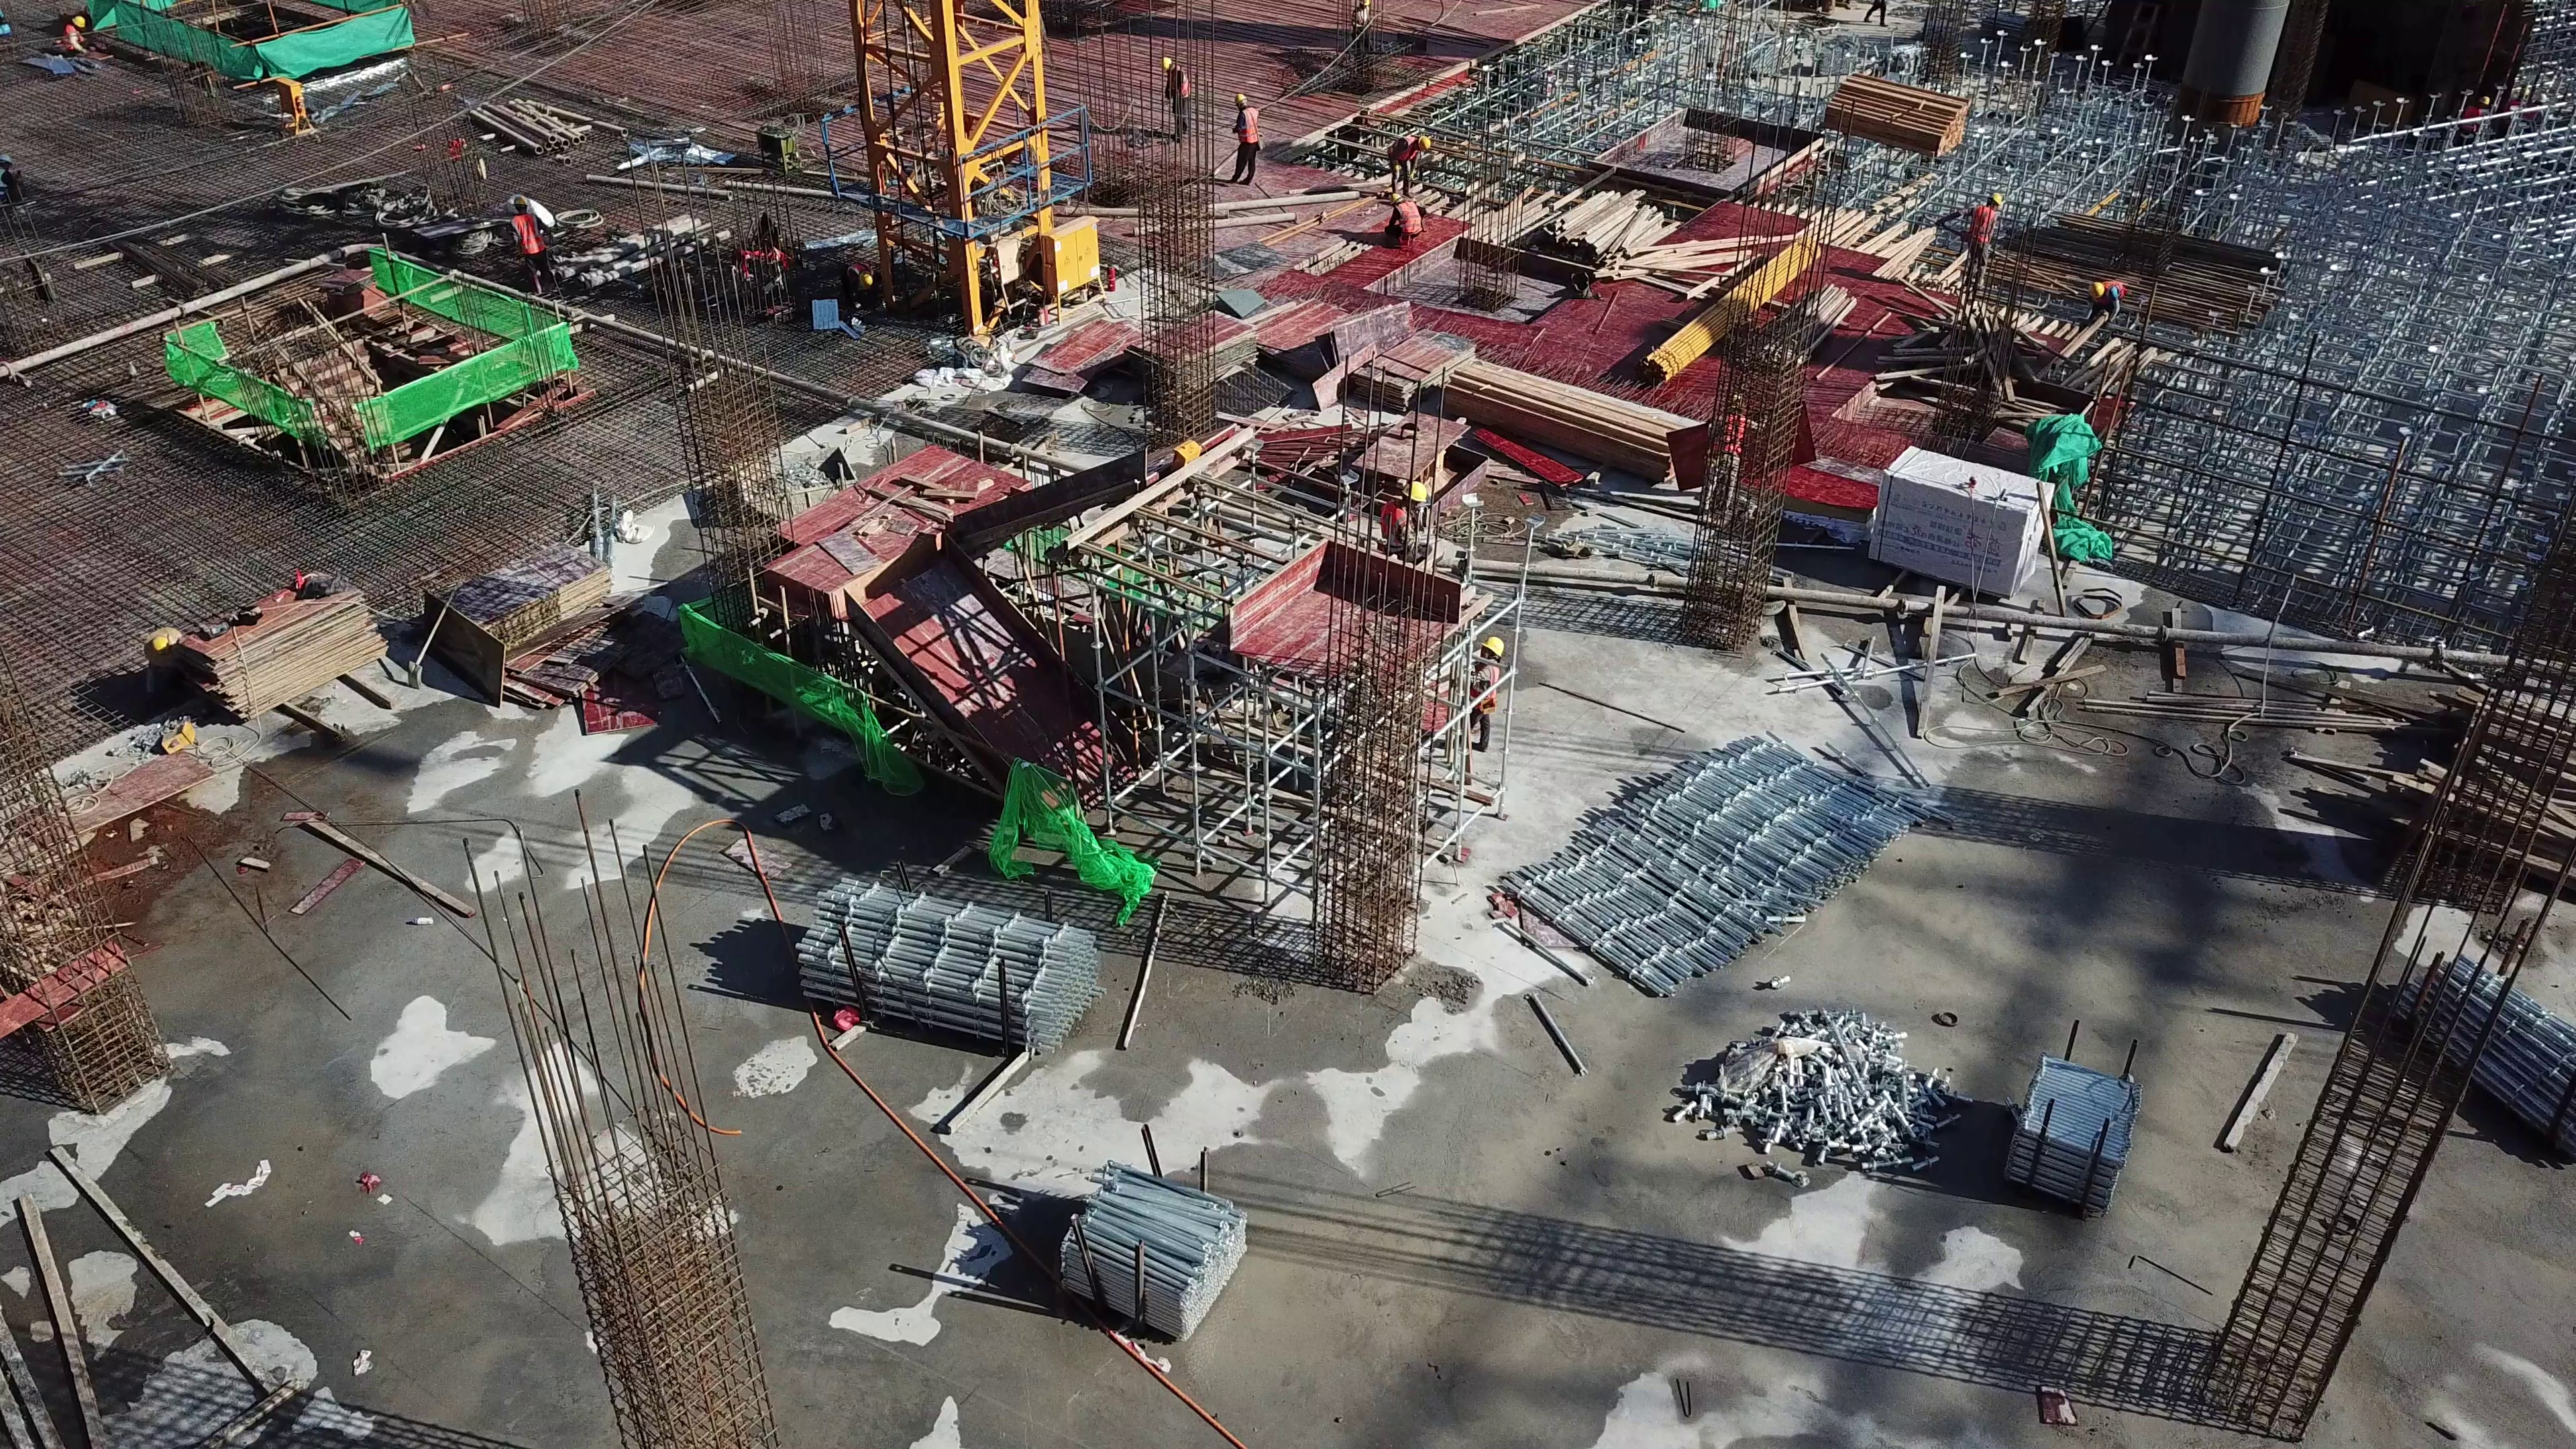board: (175, 567, 388, 739), (437, 532, 606, 710)
person: (504, 202, 578, 296), (1228, 76, 1277, 205), (1391, 158, 1429, 272), (1371, 476, 1426, 546), (2085, 266, 2129, 351), (1963, 191, 2000, 281), (1479, 628, 1505, 739)
scaffold: (1470, 716, 1933, 996), (793, 861, 1096, 1080), (2398, 934, 2576, 1183), (1044, 1162, 1254, 1360), (2004, 1054, 2143, 1220)
wood: (1452, 357, 1695, 511), (1540, 191, 1741, 290)
